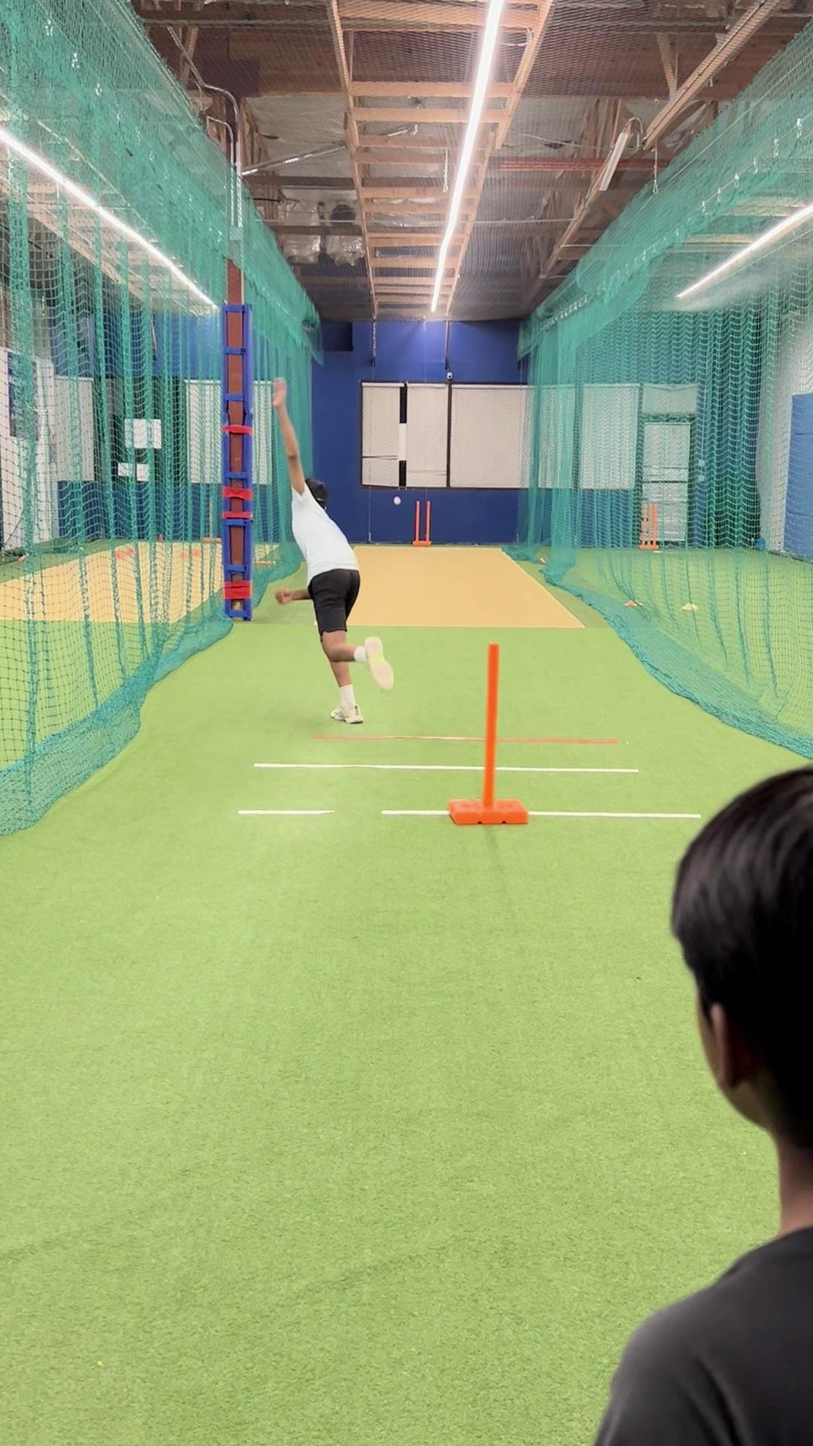ball: (390, 491, 404, 509)
